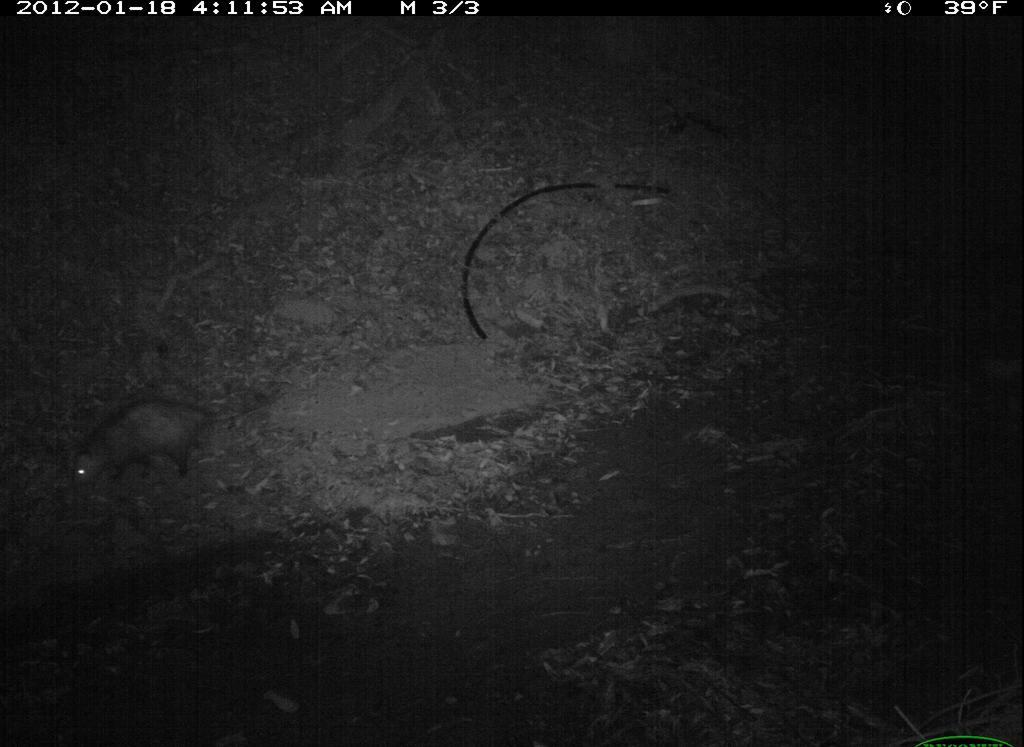opossum: (66, 393, 265, 492)
